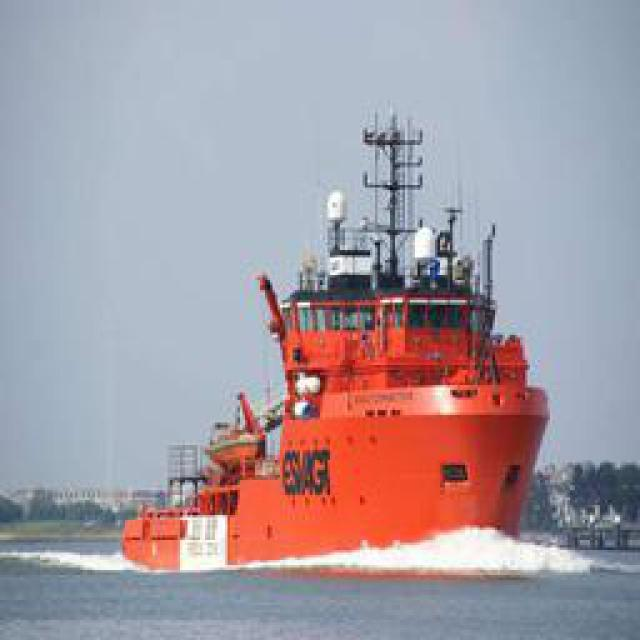Ship: (125, 107, 553, 567)
